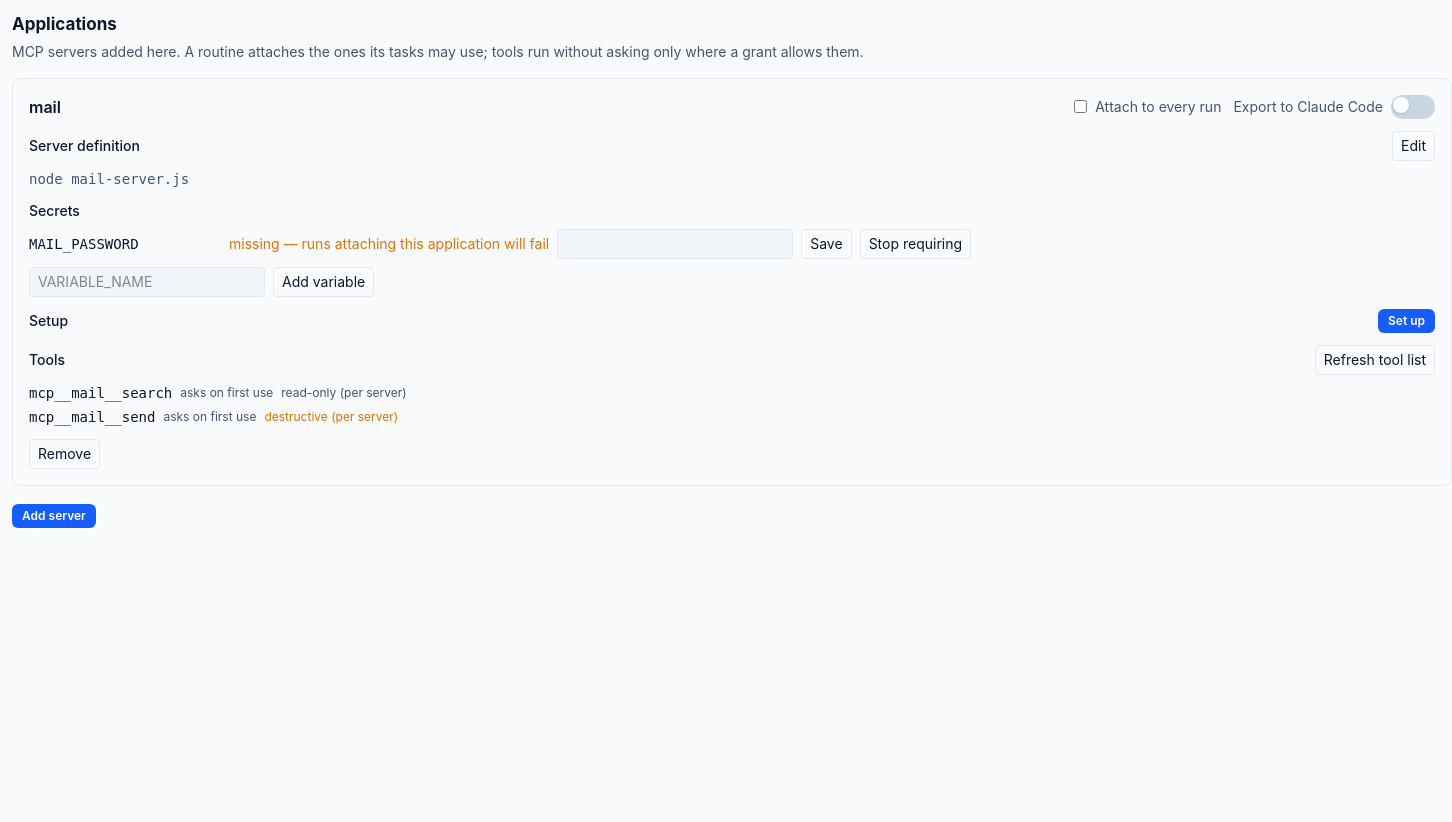
Test: applicationSettings › shows a 409 error naming attached routines and keeps the card
The image size is (1452, 822).
Click the button with test id "application-remove-res-mail" at (65, 454), box [29,438,100,468]
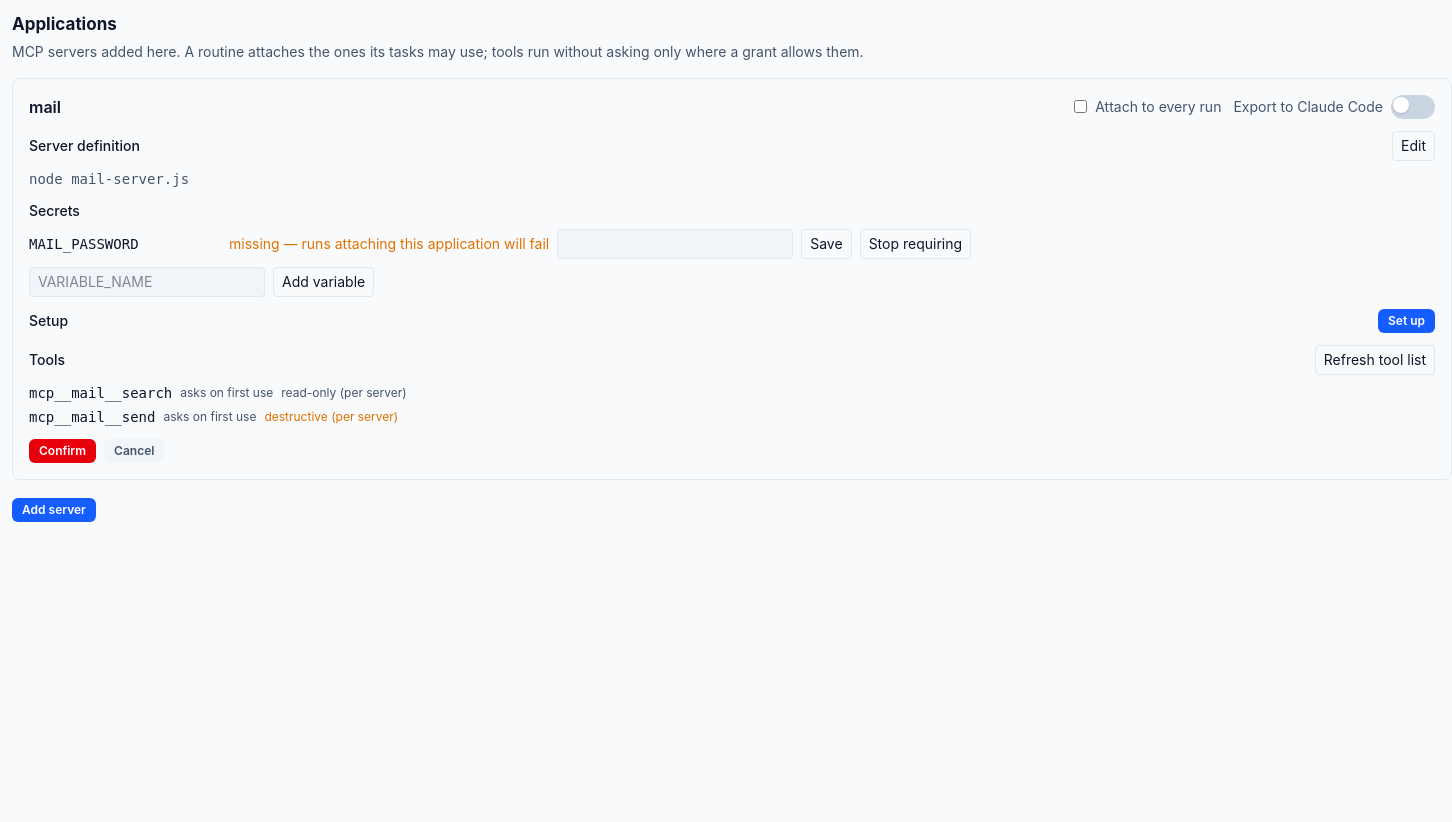
Click the button with test id "application-remove-confirm-res-mail" at (63, 450), box [29,438,96,462]
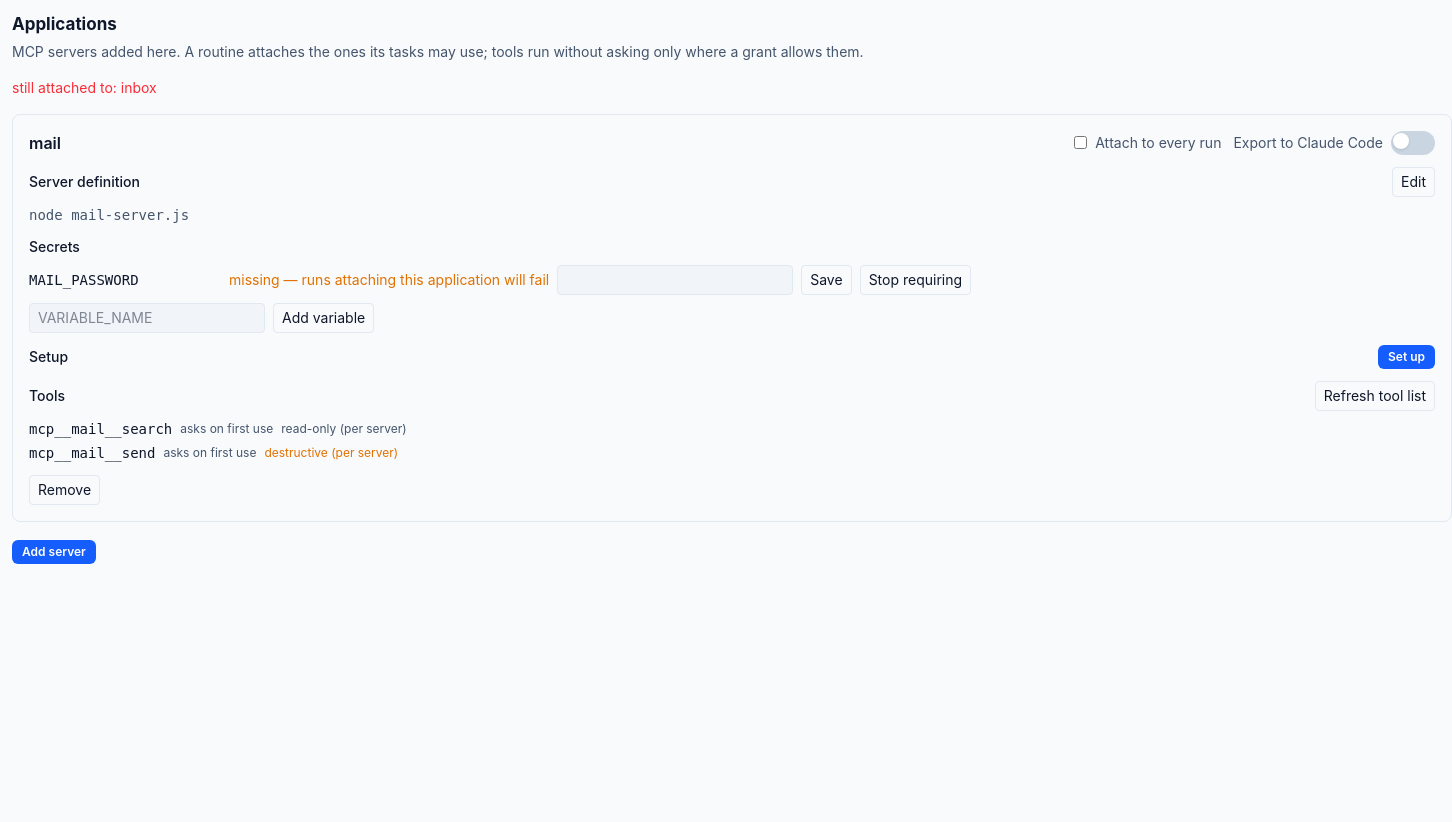
Check: the element with test id "application-res-mail" is shown, box [12,114,1451,522]
Check: the text "still attached to: inbox" is shown, box [12,78,157,96]
